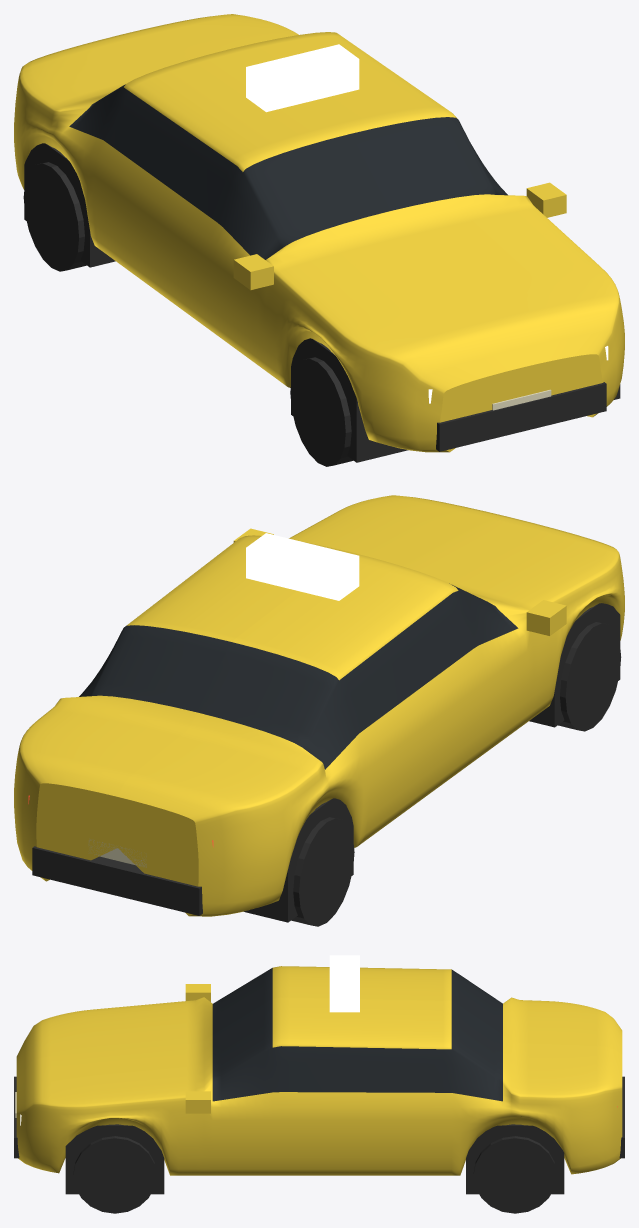
Rendered from taxi_seda.gltf.
3 views of the same model, one above another, from view 1: azimuth 30°, elevation 25°; view 2: azimuth 150°, elevation 25°; view 3: azimuth 270°, elevation 25° (orthographic). The views are drawn at different scales.
Parts seen in each view (by area): view 1: carro; view 2: carro; view 3: carro.
Part boxes in pixels (x1,y1,x2,y2): carro: (14,14,624,466); carro: (14,495,624,926); carro: (14,955,624,1213).
Bounding box in the file's own units: 2.17 × 1.67 × 4.84.
